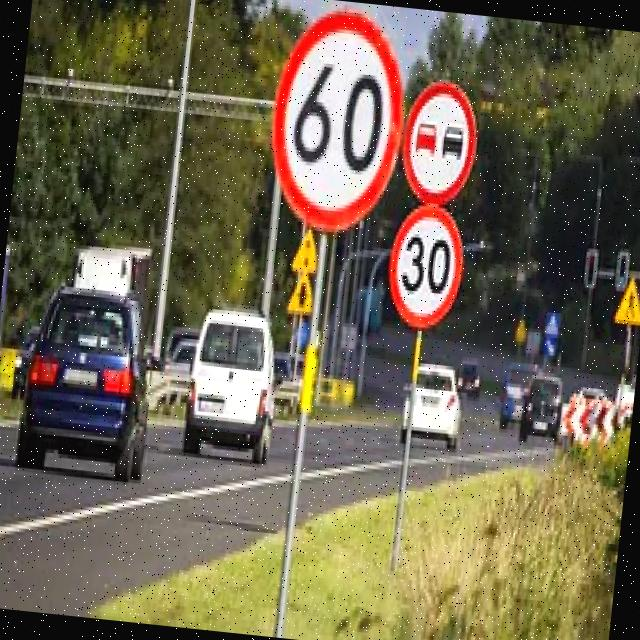Zakaz wyprzedzania: (398, 72, 486, 204)
